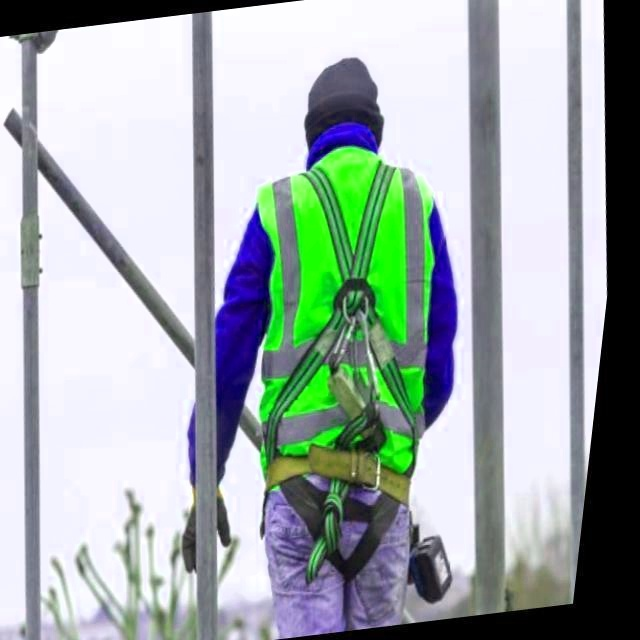safety belt: (243, 164, 460, 588)
